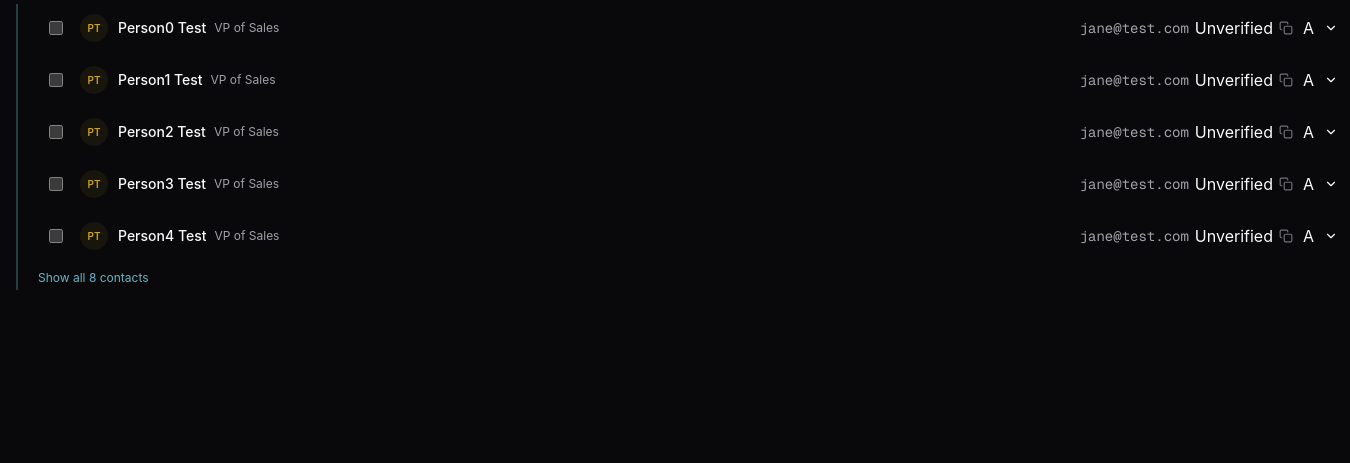
Scenario: InlineContacts › expands to show all contacts when 'Show all' is clicked
Click the button "Show all 8 contacts".
click(93, 278)  # box [30,266,157,290]
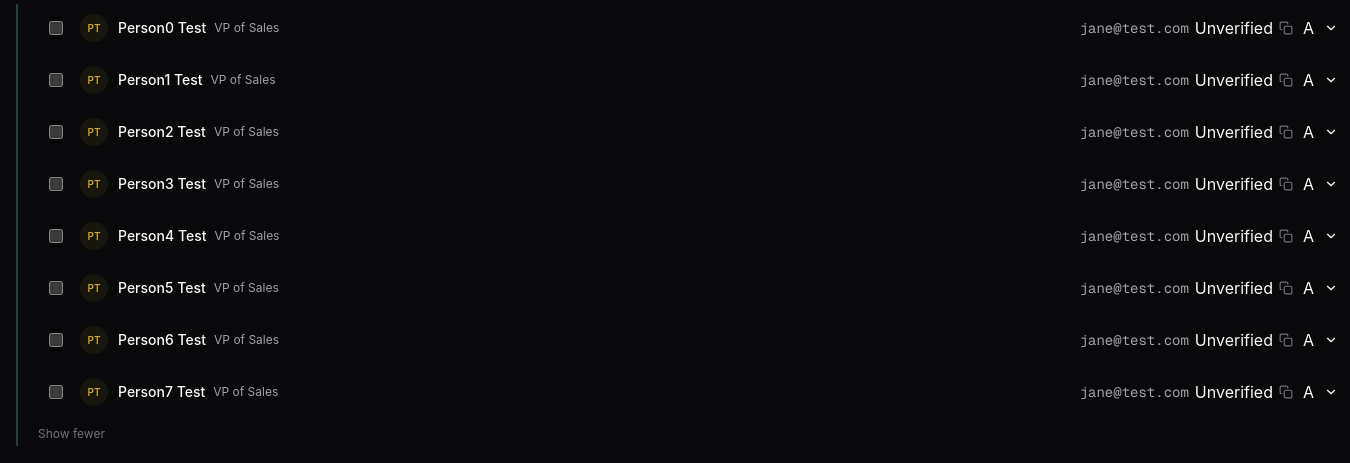
Expected: the text "Person7 Test" is shown, [118,382,205,402]
Expected: the button "Show fewer" is shown, [30,422,113,446]
